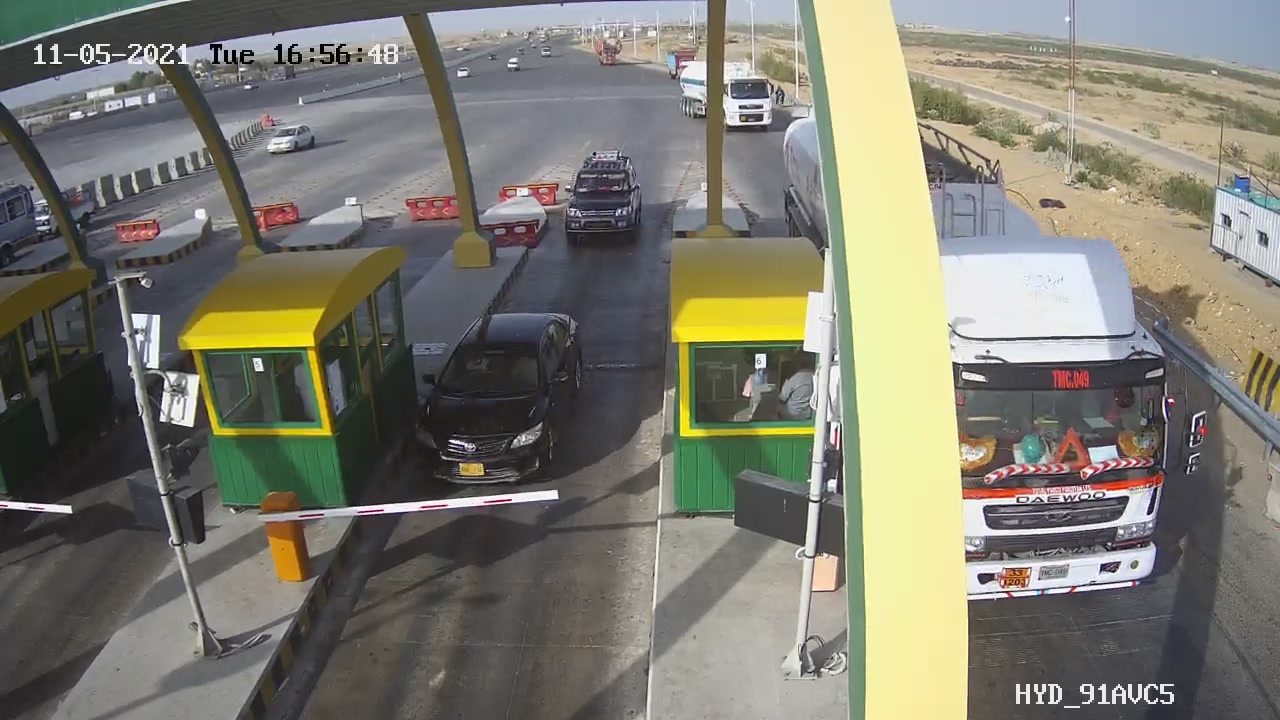F1: (391, 297, 602, 511), (545, 142, 663, 256)
